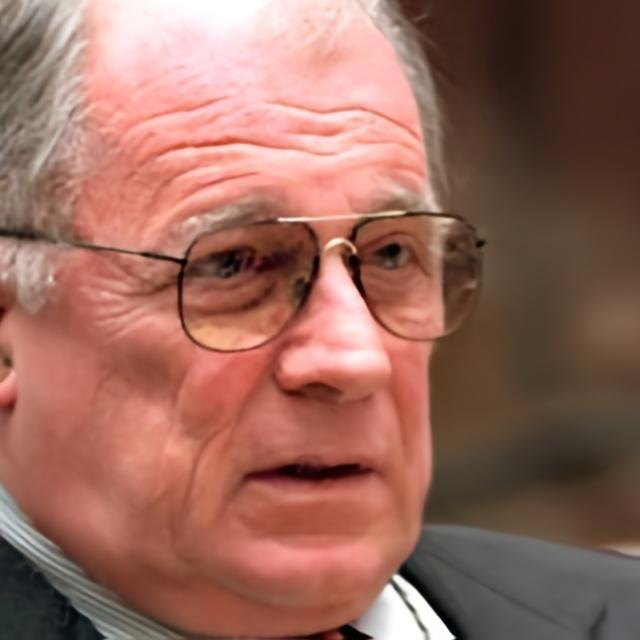surprise: (13, 0, 448, 608)
